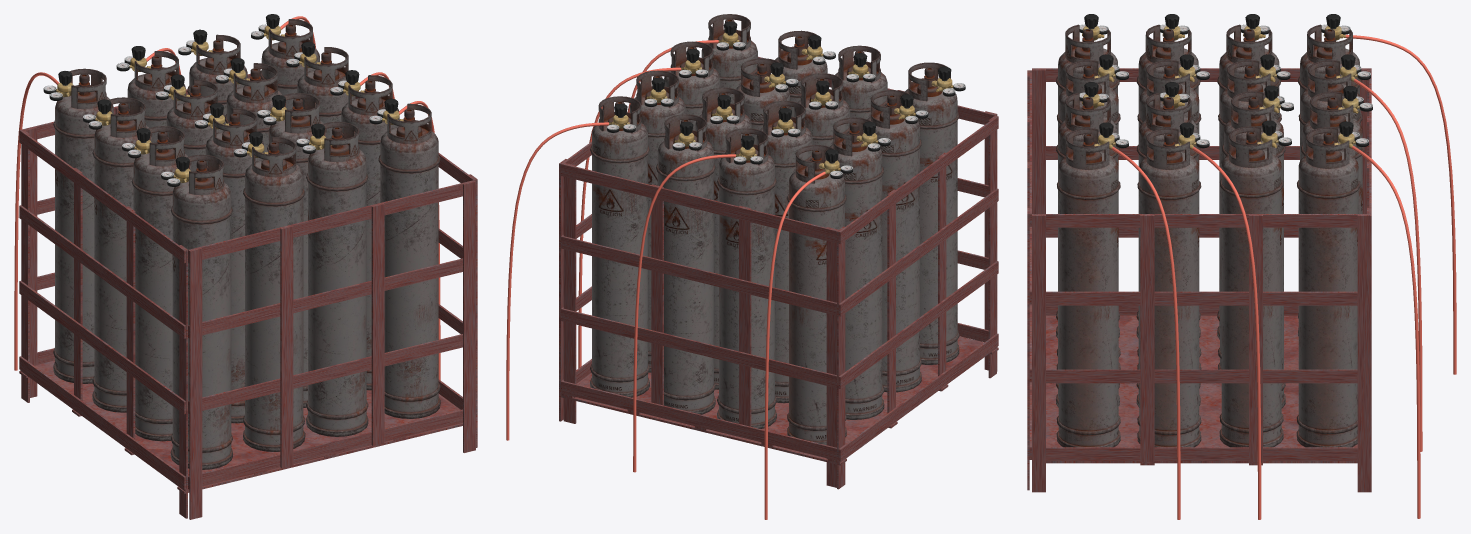
The model's file is Cylinder with cage.fbx.
The picture shows the model from 3 angles, left to right: view 1: azimuth 30°, elevation 25°; view 2: azimuth 150°, elevation 25°; view 3: azimuth 270°, elevation 25°; orthographic projection. The views are drawn at different scales.
Parts seen in each view (by area): view 1: Plane.001, gastank_m_gasTank_0.012, gastank_m_gasTank_0.011, gastank_m_gasTank_0.007, gastank_m_gasTank_0.008, gastank_m_gasTank_0.006, gastank_m_gasTank_0.004, gastank_m_gasTank_0.002, gastank_m_gasTank_0.005, gastank_m_gasTank_0.009, gastank_m_gasTank_0.010, gastank_m_gasTank_0.014 (+6 smaller); view 2: Plane.001, gastank_m_gasTank_0.023, gastank_m_gasTank_0.015, gastank_m_gasTank_0.001, gastank_m_gasTank_0.002, gastank_m_gasTank_0.004, gastank_m_gasTank_0.006, gastank_m_gasTank_0.008, gastank_m_gasTank_0.003, gastank_m_gasTank_0.014, gastank_m_gasTank_0.013, gastank_m_gasTank_0.011 (+9 smaller); view 3: Plane.001, gastank_m_gasTank_0.011, gastank_m_gasTank_0.023, gastank_m_gasTank_0.014, gastank_m_gasTank_0.009, gastank_m_gasTank_0.013, gastank_m_gasTank_0.010, gastank_m_gasTank_0.003, gastank_m_gasTank_0.004, gastank_m_gasTank_0.012, gastank_m_gasTank_0.015, gastank_m_gasTank_0.006 (+10 smaller).
Part boxes in pixels (x1=…): Plane.001: x1=19, y1=73, x2=477, y2=519; gastank_m_gasTank_0.012: x1=306, y1=121, x2=368, y2=436; gastank_m_gasTank_0.011: x1=378, y1=103, x2=440, y2=418; gastank_m_gasTank_0.007: x1=243, y1=136, x2=305, y2=451; gastank_m_gasTank_0.008: x1=170, y1=154, x2=232, y2=469; gastank_m_gasTank_0.006: x1=131, y1=126, x2=191, y2=441; gastank_m_gasTank_0.004: x1=92, y1=97, x2=152, y2=412; gastank_m_gasTank_0.002: x1=53, y1=68, x2=113, y2=383; gastank_m_gasTank_0.005: x1=205, y1=108, x2=263, y2=423; gastank_m_gasTank_0.009: x1=341, y1=75, x2=399, y2=390; gastank_m_gasTank_0.010: x1=267, y1=93, x2=327, y2=407; gastank_m_gasTank_0.014: x1=297, y1=47, x2=355, y2=138; Plane.001: x1=559, y1=56, x2=998, y2=489; gastank_m_gasTank_0.023: x1=590, y1=96, x2=649, y2=397; gastank_m_gasTank_0.015: x1=656, y1=114, x2=715, y2=414; gastank_m_gasTank_0.001: x1=717, y1=128, x2=776, y2=428; gastank_m_gasTank_0.002: x1=787, y1=145, x2=846, y2=444; gastank_m_gasTank_0.004: x1=830, y1=117, x2=884, y2=419; gastank_m_gasTank_0.006: x1=867, y1=90, x2=921, y2=392; gastank_m_gasTank_0.008: x1=905, y1=62, x2=959, y2=364; gastank_m_gasTank_0.003: x1=756, y1=100, x2=812, y2=403; gastank_m_gasTank_0.014: x1=629, y1=70, x2=685, y2=372; gastank_m_gasTank_0.013: x1=695, y1=87, x2=751, y2=389; gastank_m_gasTank_0.011: x1=701, y1=14, x2=757, y2=103; Plane.001: x1=1027, y1=68, x2=1371, y2=492; gastank_m_gasTank_0.011: x1=1056, y1=128, x2=1120, y2=447; gastank_m_gasTank_0.023: x1=1296, y1=127, x2=1360, y2=447; gastank_m_gasTank_0.014: x1=1219, y1=126, x2=1283, y2=447; gastank_m_gasTank_0.009: x1=1137, y1=128, x2=1201, y2=447; gastank_m_gasTank_0.013: x1=1222, y1=91, x2=1285, y2=408; gastank_m_gasTank_0.010: x1=1136, y1=92, x2=1200, y2=407; gastank_m_gasTank_0.003: x1=1218, y1=60, x2=1281, y2=369; gastank_m_gasTank_0.004: x1=1217, y1=24, x2=1281, y2=339; gastank_m_gasTank_0.012: x1=1056, y1=92, x2=1119, y2=407; gastank_m_gasTank_0.015: x1=1301, y1=91, x2=1364, y2=213; gastank_m_gasTank_0.006: x1=1136, y1=24, x2=1200, y2=338.
Bounding box in the file's own units: 169 × 168 × 186.
5 materials, 4 textured.
